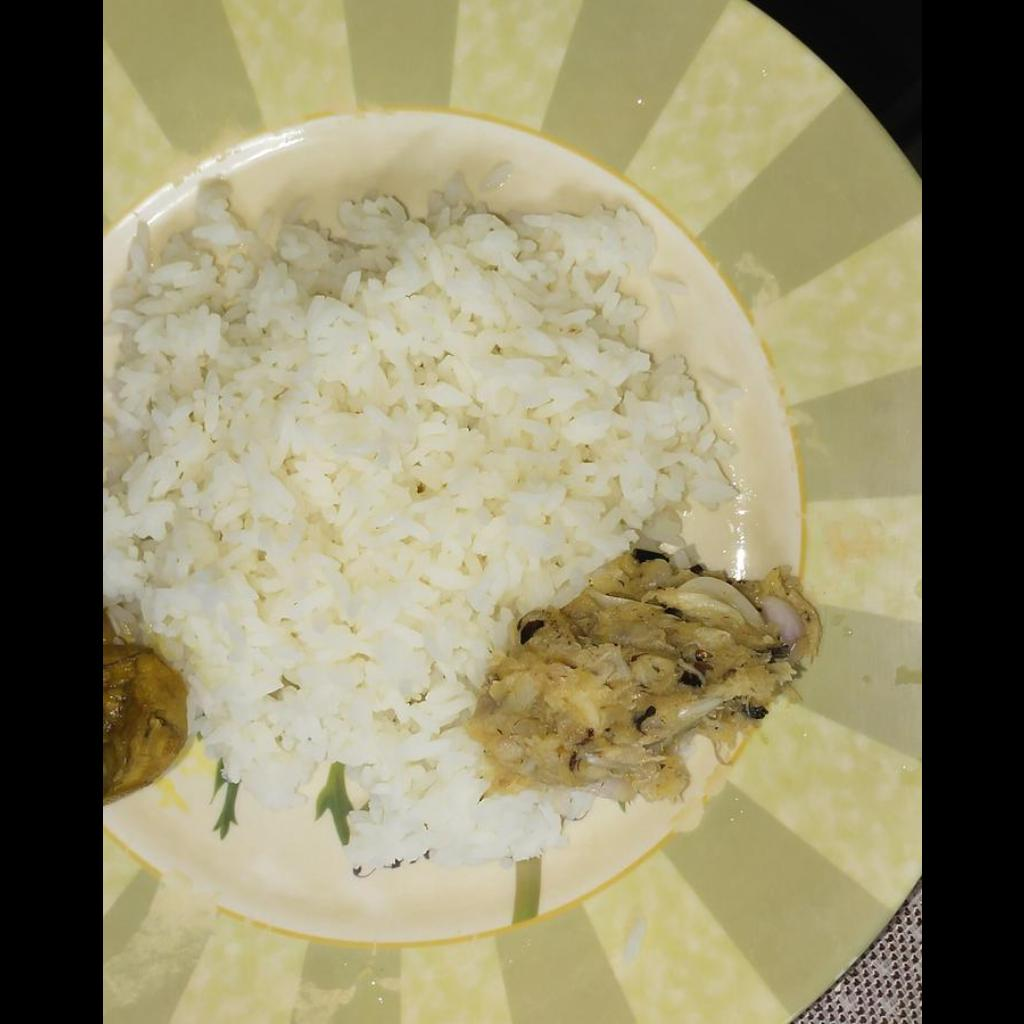potato-mashed: (467, 548, 829, 812)
rice: (102, 169, 736, 870)
